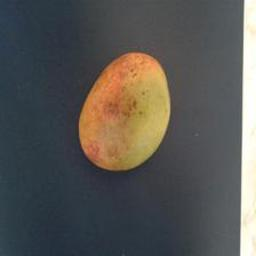Mango Semifresh: (68, 40, 183, 178)
